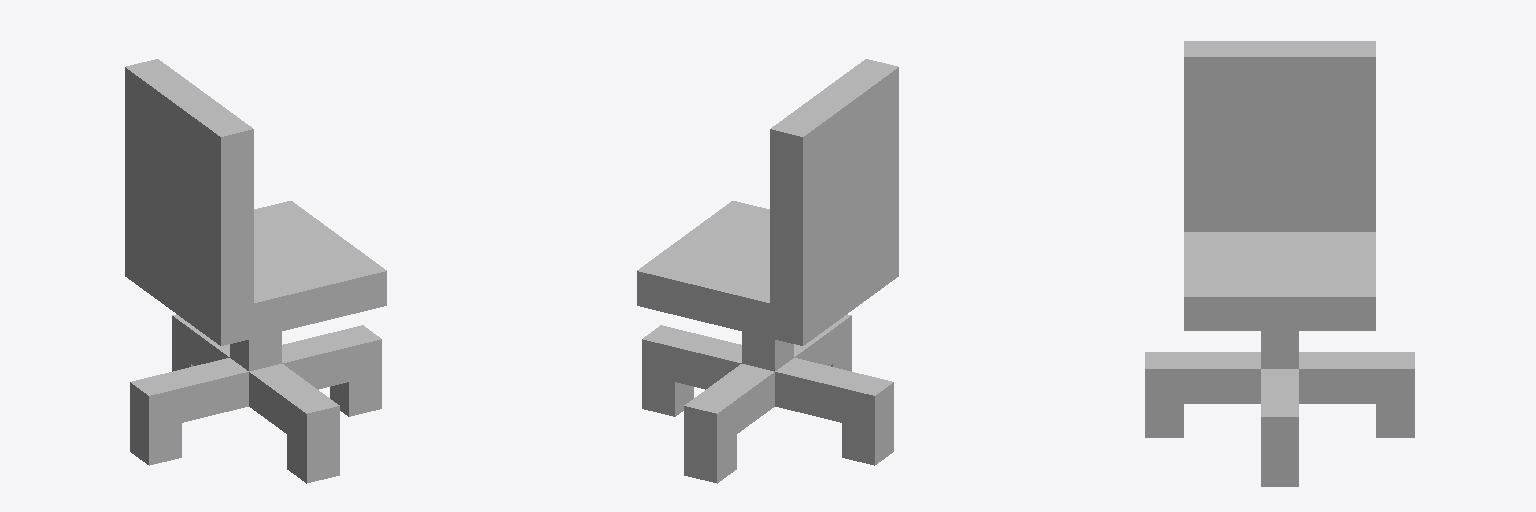
Rendered from DeskChair.obj.
3 views of the same model, side by side, from view 1: azimuth 30°, elevation 25°; view 2: azimuth 150°, elevation 25°; view 3: azimuth 270°, elevation 25° (orthographic).
Visible parts, largest first — view 1: cube; view 2: cube; view 3: cube.
Boxes of the visible parts, x1,y1,x2,y2 form: cube: [125, 59, 386, 483]; cube: [637, 59, 898, 483]; cube: [1145, 41, 1414, 486].
Bounding box in the file's own units: 0.4375 × 0.625 × 0.4375.